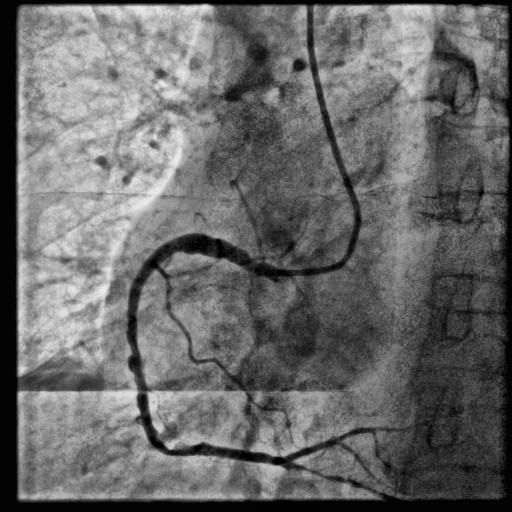pborca: (283, 428, 385, 461)
pda: (284, 463, 395, 502)
rca: (126, 233, 290, 467)
